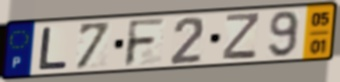2: (169, 14, 208, 66)
7: (77, 20, 114, 71)
9: (267, 10, 301, 60)
F: (122, 16, 168, 69)
L: (36, 25, 70, 71)
Z: (220, 11, 262, 61)
